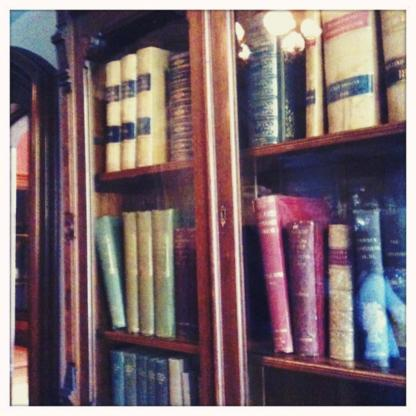book: (253, 166, 413, 370), (244, 2, 408, 151), (91, 211, 197, 338), (104, 47, 198, 172), (253, 190, 322, 350), (111, 342, 200, 405)
